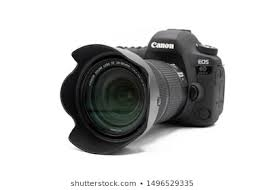camera: (63, 29, 223, 152)
